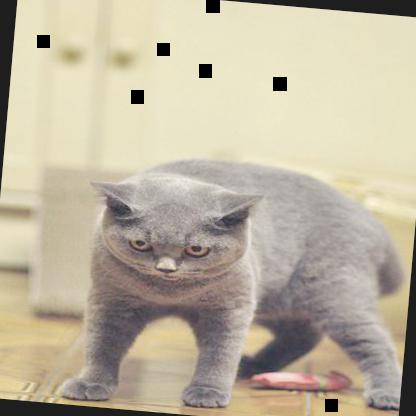cat: (57, 147, 415, 415)
